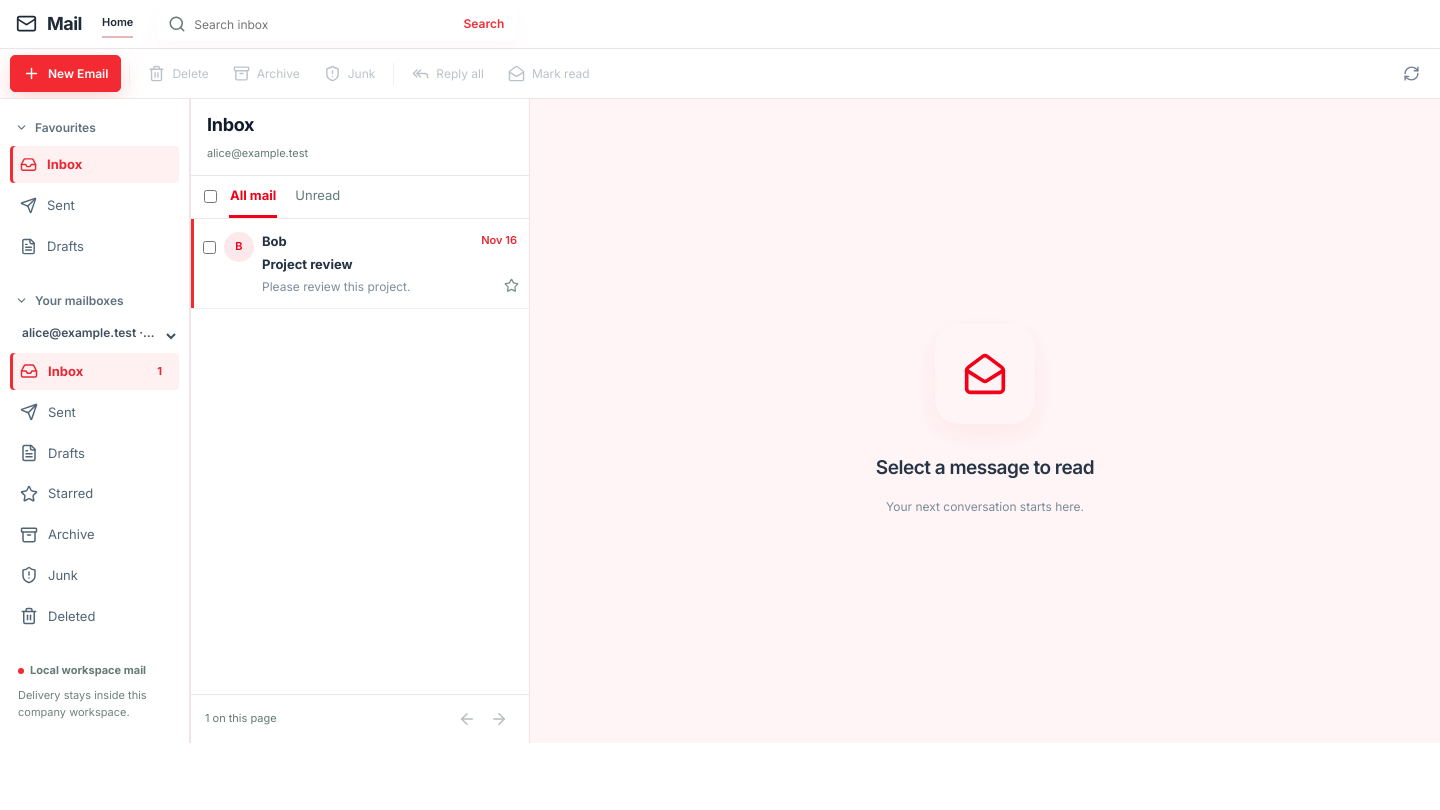
Test: Email inbox interactions › keeps the composer open when sending is explicitly rejected
The image size is (1440, 810).
Click the button "New Email": coordinates (66, 74) top-left (10, 55), bottom-right (121, 92)
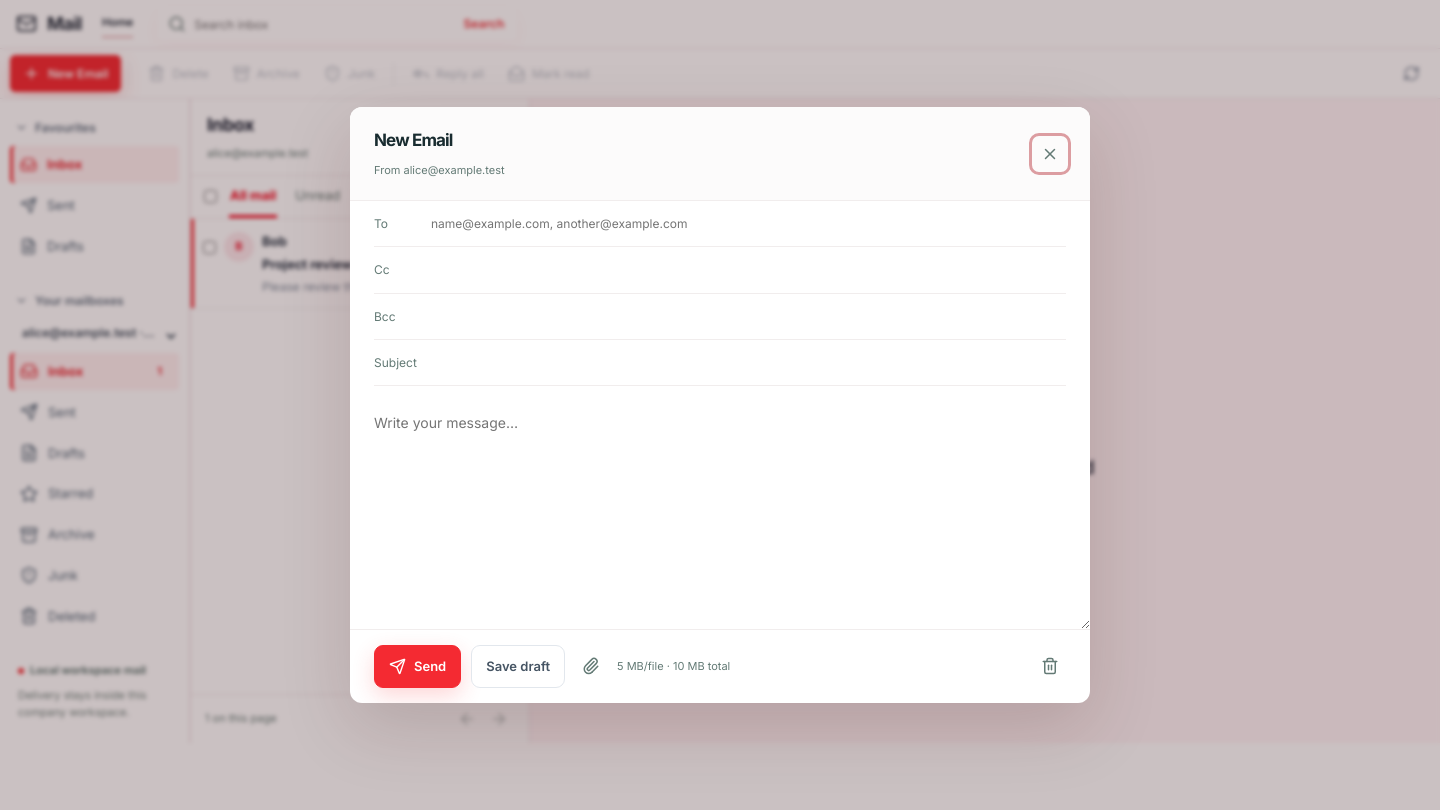
In the field named "To recipients": coordinates (748, 224) top-left (431, 201), bottom-right (1066, 246), type "bob@example.test"
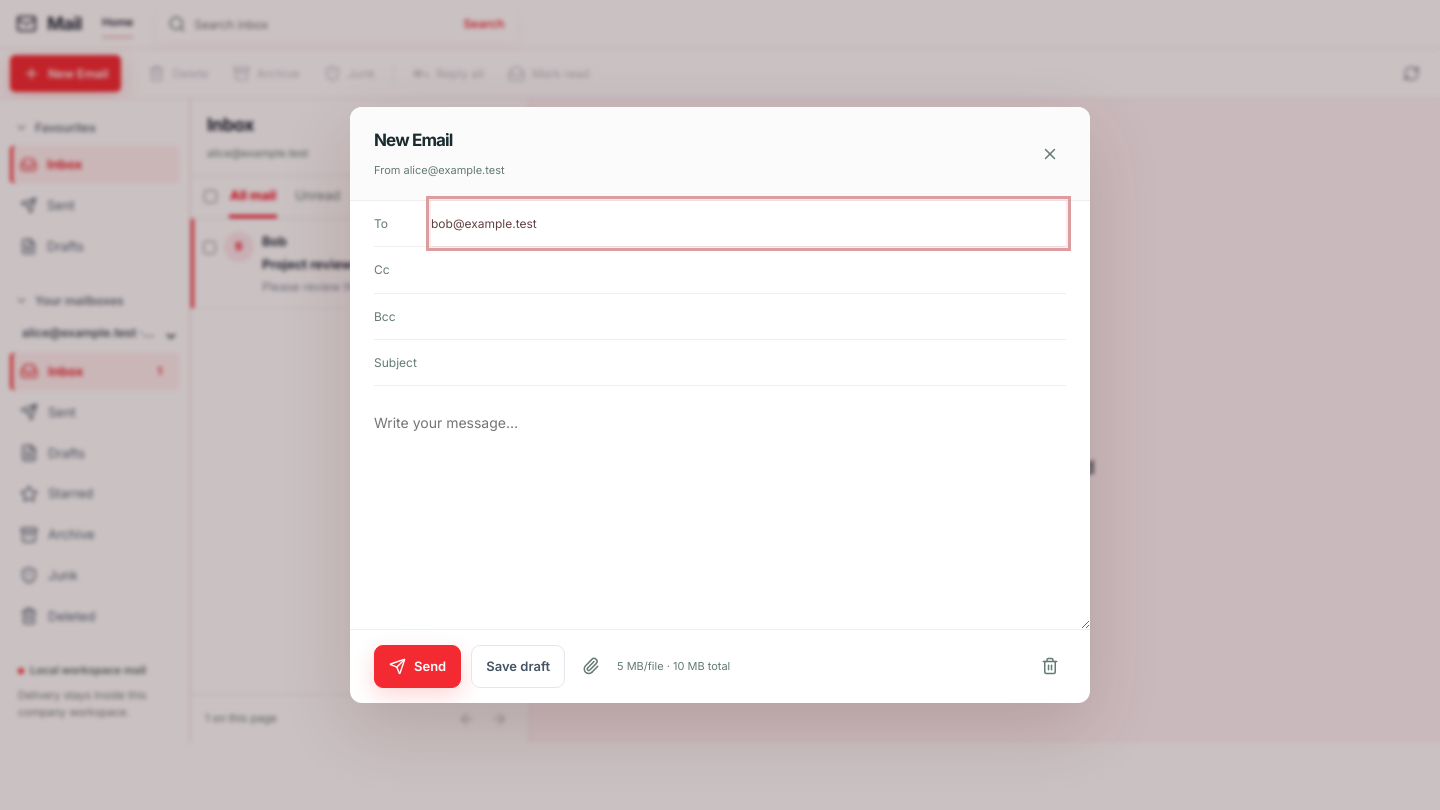
Click the button "Send": coordinates (418, 666) top-left (374, 645), bottom-right (461, 688)
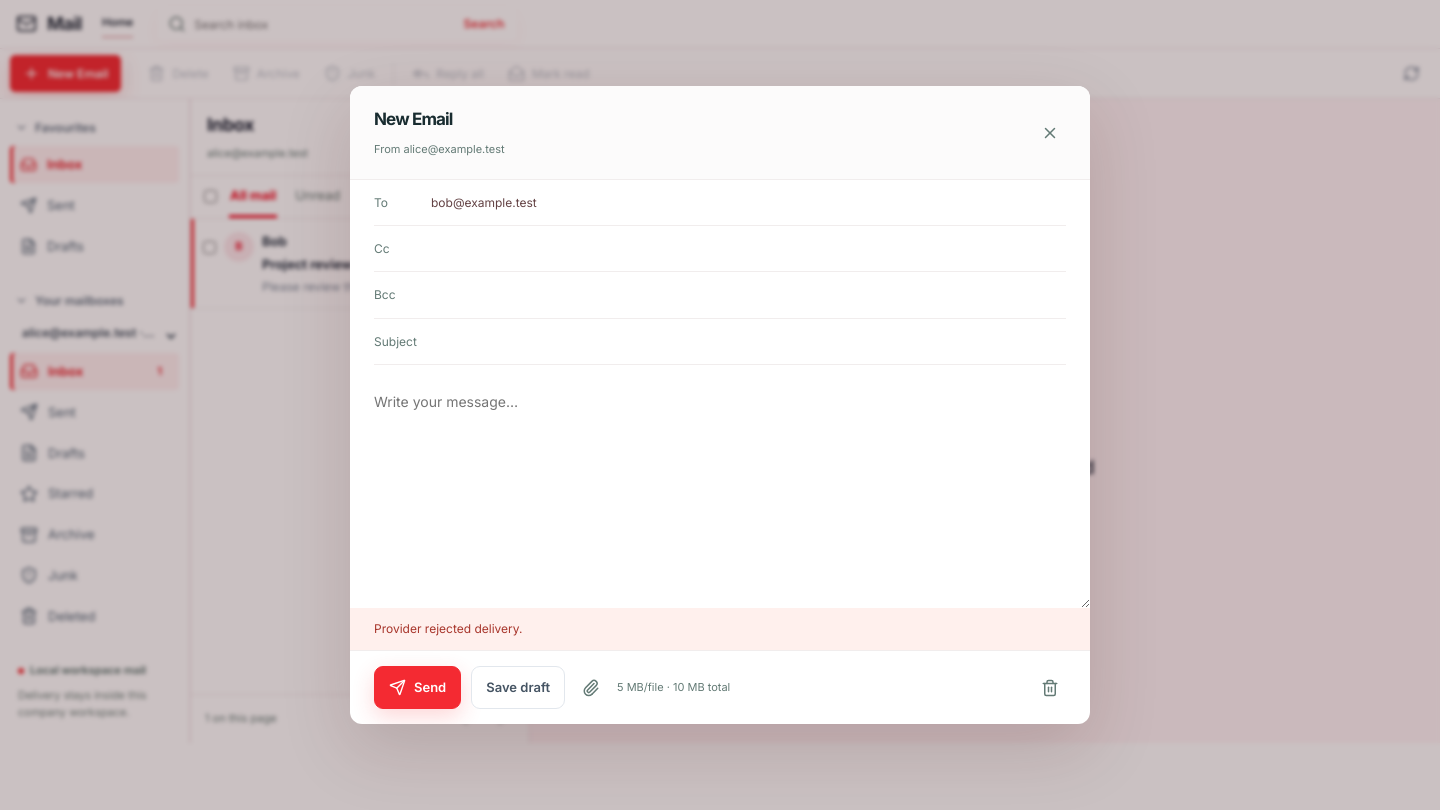
Expected: the dialog "New Email" is shown, top-left (350, 86), bottom-right (1090, 724)
Expected: the text "Provider rejected delivery." is shown, top-left (350, 608), bottom-right (1090, 650)
